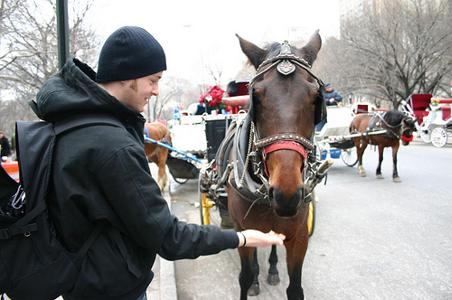person: (46, 27, 286, 300)
